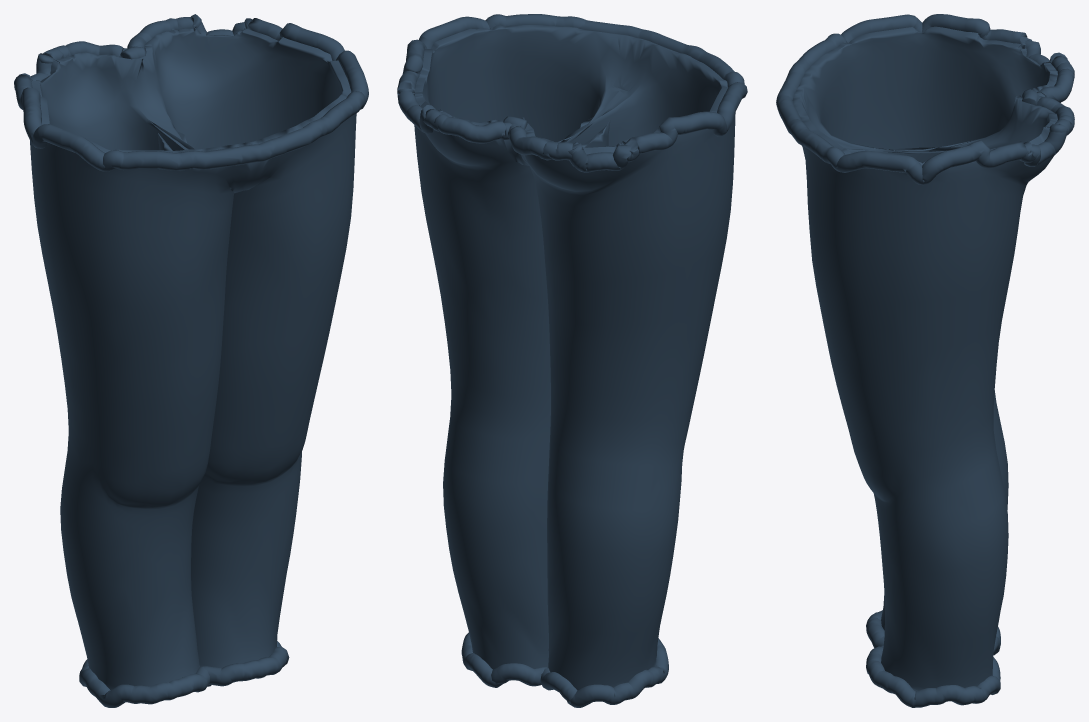
Rendered from 4HT-feminino.glb.
3 views of the same model, side by side, from view 1: azimuth 30°, elevation 25°; view 2: azimuth 150°, elevation 25°; view 3: azimuth 270°, elevation 25° (orthographic). The views are drawn at different scales.
Parts seen in each view (by area): view 1: fitted-shell, bound-edge (×3); view 2: fitted-shell, bound-edge (×3); view 3: fitted-shell, bound-edge (×3).
Part boxes in pixels (<box>): fitted-shell: <box>30,26,356,690</box>; bound-edge (×3): <box>14,14,368,707</box>; fitted-shell: <box>414,25,735,690</box>; bound-edge (×3): <box>397,14,747,707</box>; fitted-shell: <box>792,26,1060,691</box>; bound-edge (×3): <box>776,14,1074,707</box>.
Bounding box in the file's own units: 0.0267 × 0.0492 × 0.0224.
